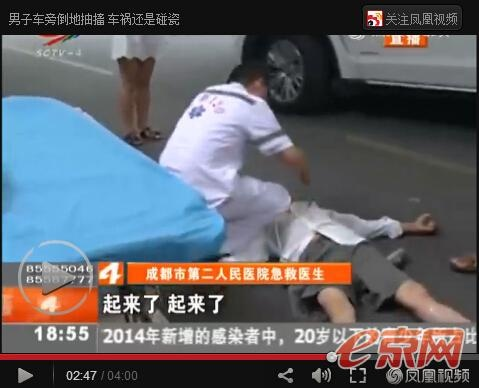falling: (257, 179, 472, 339)
